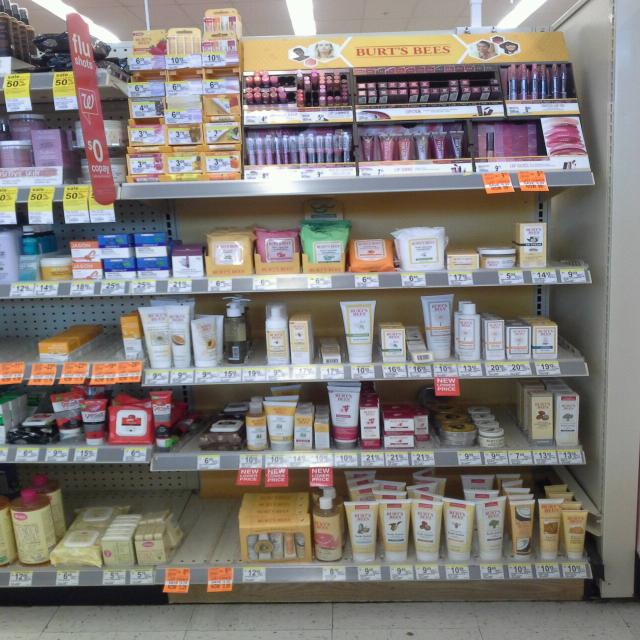empty: (181, 476, 247, 563), (1, 304, 37, 369), (497, 384, 534, 445), (76, 306, 121, 356), (241, 297, 264, 364), (556, 304, 580, 365)
